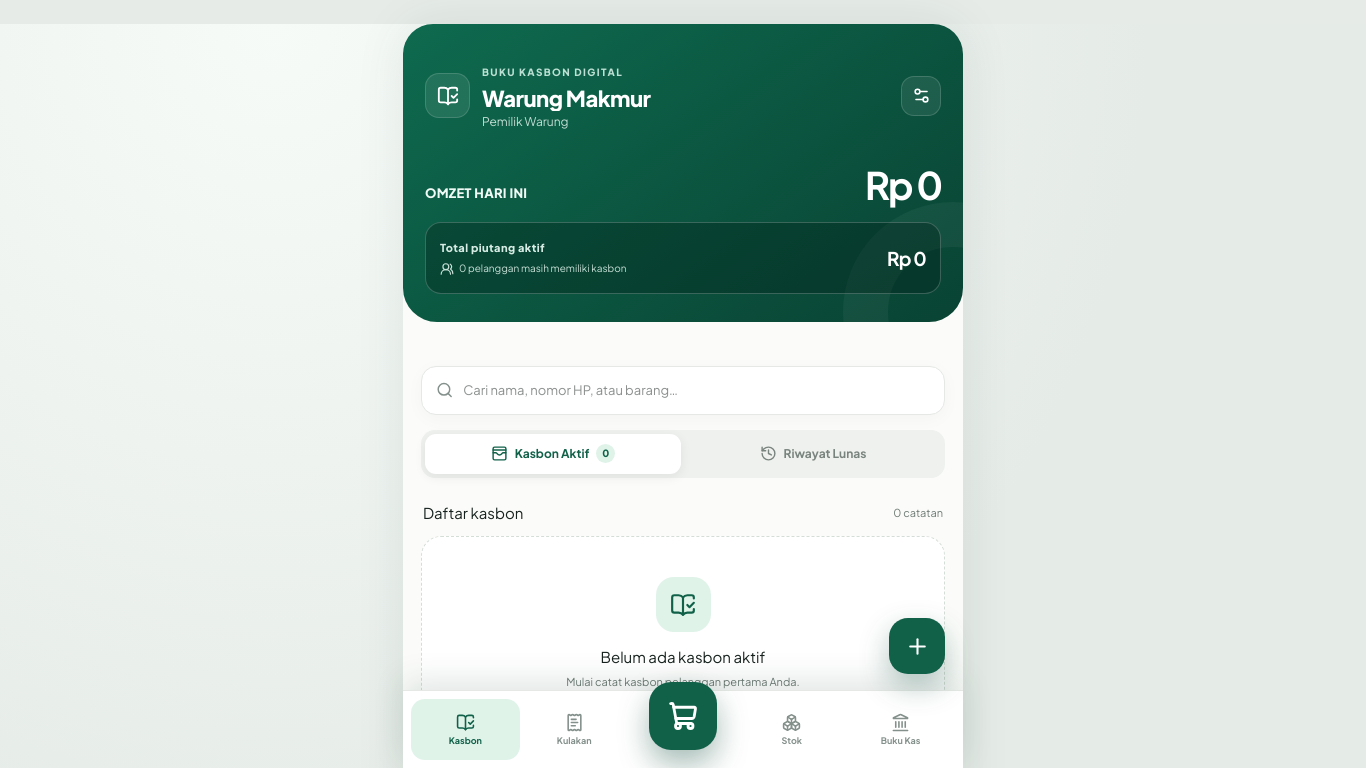
Warung app navigation › places Kasir Cepat as the primary center module
Expected: the navigation bar named "Navigasi utama" is shown, [403,690,963,767]
Click the button named "Buka kasir cepat". click: {"x": 683, "y": 716}
box: [649,682,717,750]
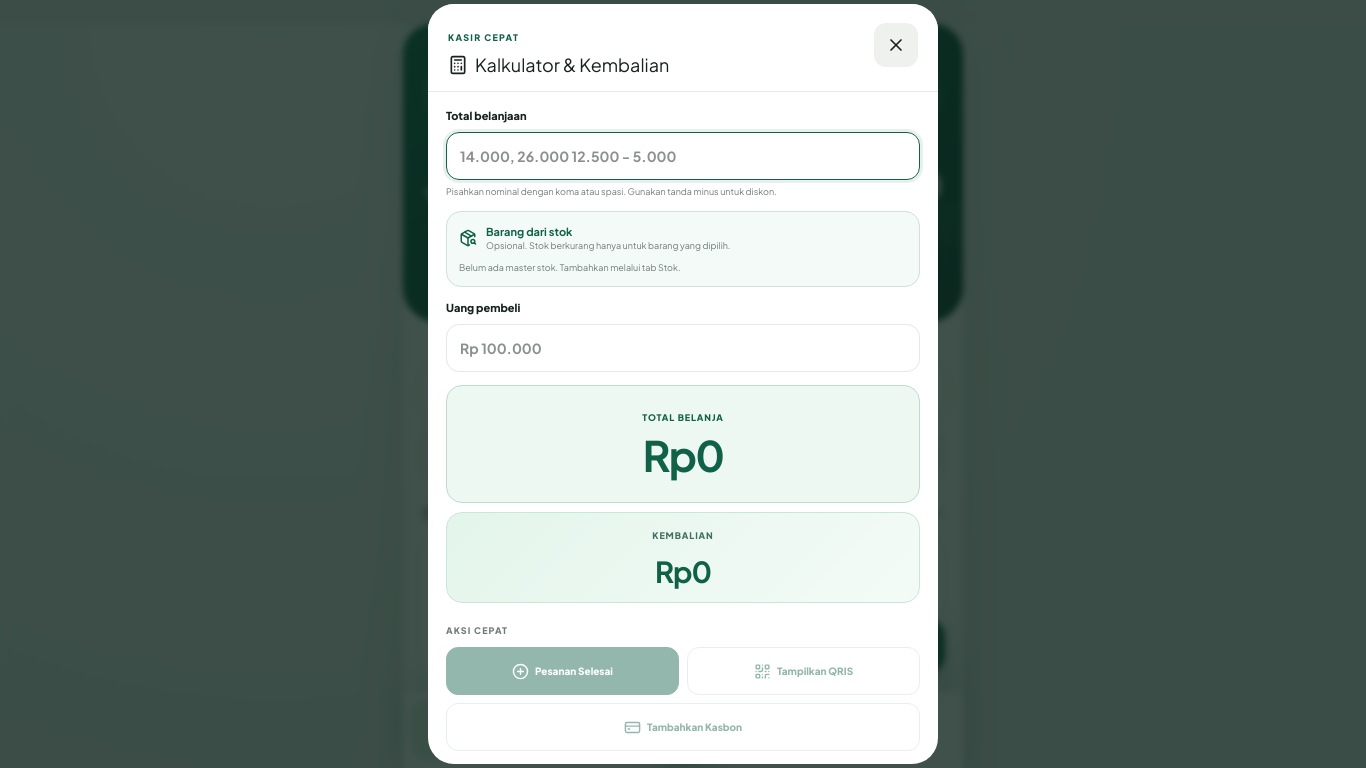
Expected: the dialog named "Kalkulator kasir cepat" is shown, [428,4,938,764]
